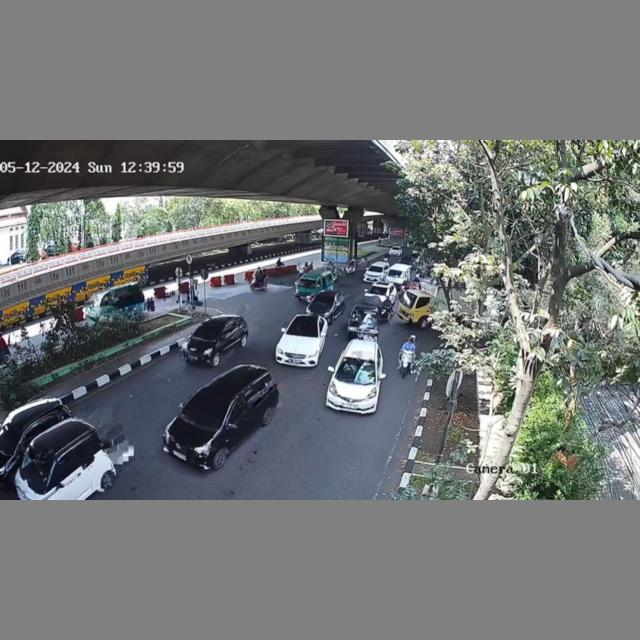windshield: (183, 395, 232, 427), (338, 356, 376, 383), (283, 321, 321, 339), (192, 320, 219, 338)
